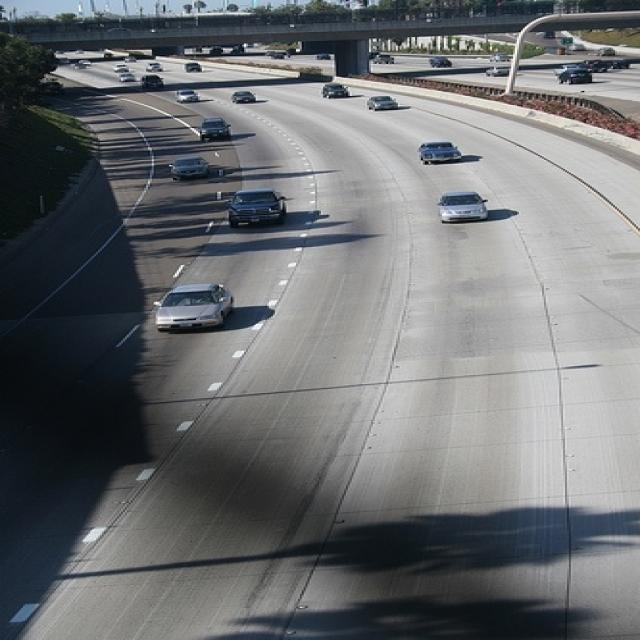Carro Azul Escuro: (416, 140, 466, 165)
Carro Cinza: (170, 151, 212, 185)
Carro Prata: (144, 278, 243, 339), (436, 190, 492, 228), (362, 97, 402, 113)
Carro Preto: (222, 186, 292, 230), (198, 116, 236, 142), (319, 83, 355, 103), (228, 92, 264, 106)
